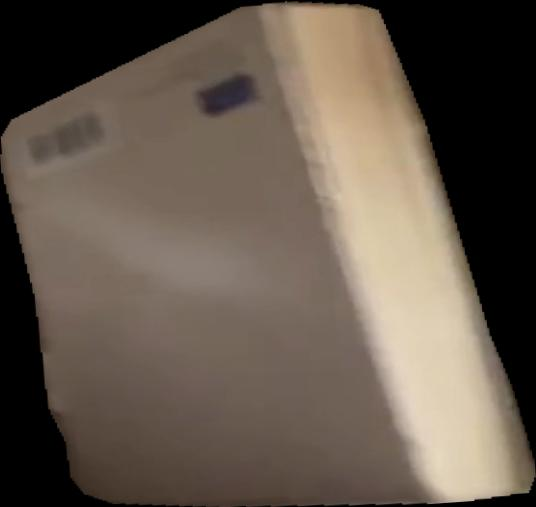backward: (1, 1, 536, 507)
